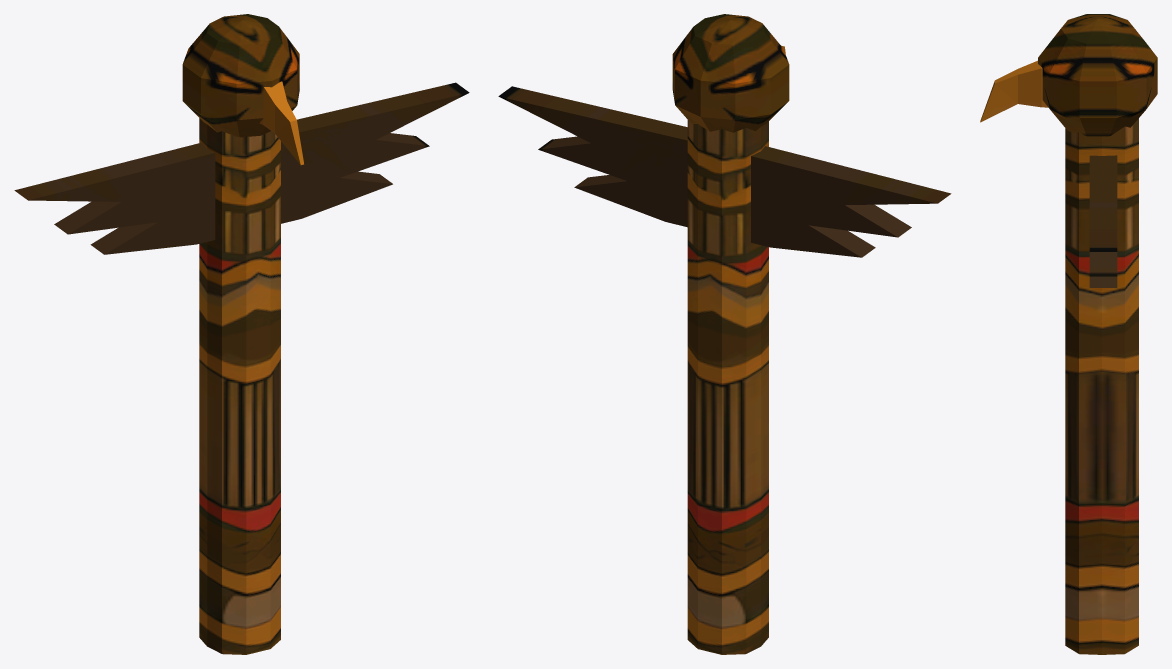
File: Totem1.glb
3 views of the same model, side by side, from view 1: azimuth 30°, elevation 25°; view 2: azimuth 150°, elevation 25°; view 3: azimuth 270°, elevation 25° (orthographic).
Visible parts, largest first — view 1: Totem1; view 2: Totem1; view 3: Totem1.
Part boxes in pixels (box(x1,y1,x2,y2)): Totem1: box(14, 14, 469, 654); Totem1: box(498, 14, 951, 654); Totem1: box(980, 14, 1157, 654).
Size of the model in its own units: 268 by 359 by 92.99.
1 material, 1 textured.
